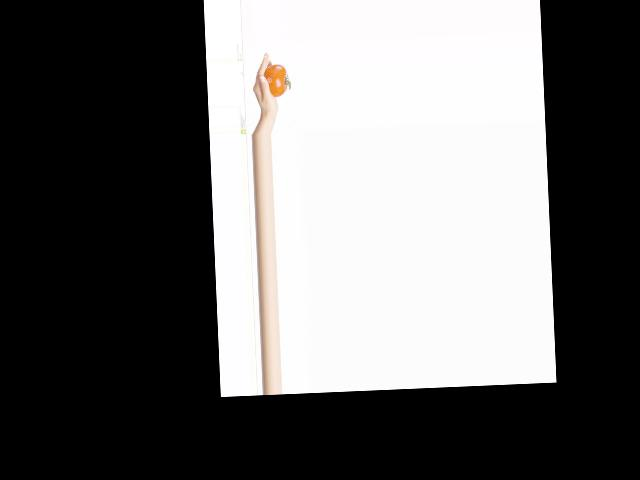tomato: (263, 63, 287, 97)
